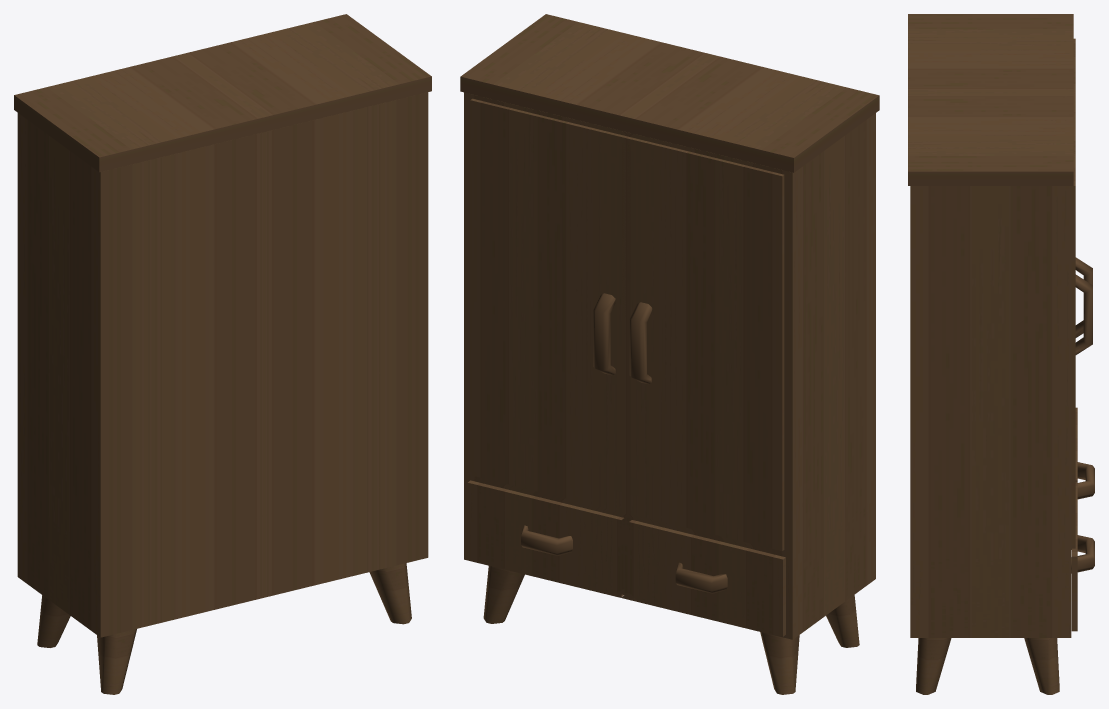
File: Anim.fbx
3 views of the same model, side by side, from view 1: azimuth 30°, elevation 25°; view 2: azimuth 150°, elevation 25°; view 3: azimuth 270°, elevation 25° (orthographic). The views are drawn at different scales.
Visible parts, largest first — view 1: Drawers; view 2: Drawers, DoorLeft, DoorRight; view 3: Drawers, DoorLeft, DoorRight.
Boxes of the visible parts, x1=… form: Drawers: x1=14, y1=14, x2=431, y2=694; Drawers: x1=460, y1=14, x2=879, y2=694; DoorLeft: x1=470, y1=98, x2=630, y2=513; DoorRight: x1=622, y1=135, x2=784, y2=550; Drawers: x1=908, y1=14, x2=1094, y2=694; DoorLeft: x1=1071, y1=114, x2=1092, y2=548; DoorRight: x1=1073, y1=38, x2=1092, y2=337.
Size of the model in its own units: 2.03 by 3.18 by 1.02.
